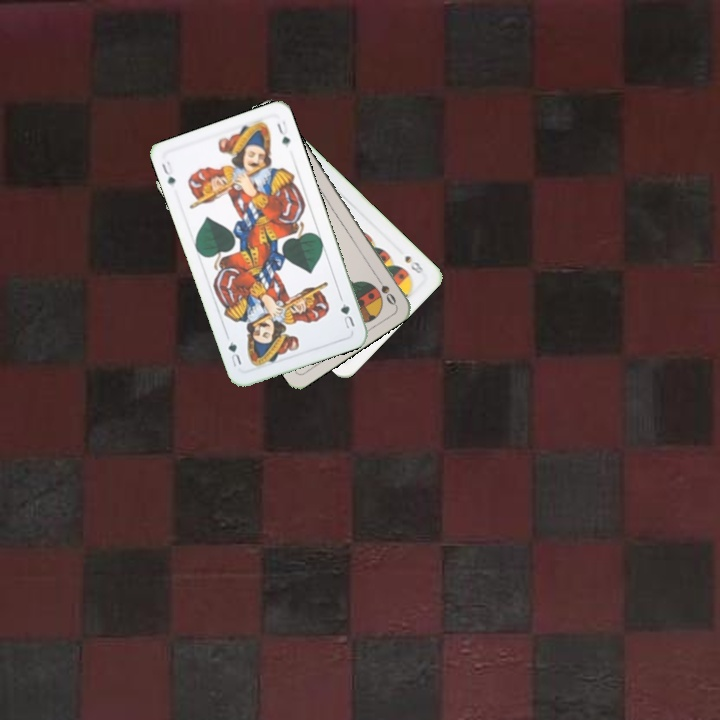GU: (336, 299, 357, 332), (158, 157, 178, 188)
S8: (400, 251, 426, 276)
SO: (371, 271, 399, 308)
